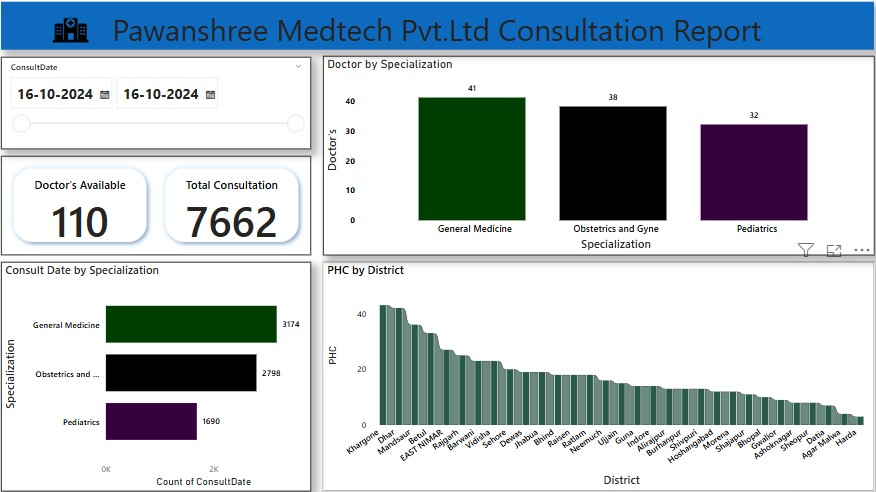

What the dashboard file says about the page in this screenshot:
{"tool":"powerbi","page":{"name":"Page 1","canvas":[1280,720],"ordinal":0},"visuals":[{"type":"shape","box":[20,11.7,1246.7,68.3],"z":0},{"type":"textbox","box":[174.9,15.9,1033.3,73.4],"z":1000},{"type":"image","box":[20.8,22,195.7,61.1],"z":2000},{"type":"cardVisual","fields":{"Data":["Count(ReportConsultation 16-Oct-2024 to 16-Oct-2024 (2).Doctor)1","CountNonNull(ReportConsultation 16-Oct-2024 to 16-Oct-2024 (2).ConsultDate)"]},"box":[20,231.7,443.3,141.7],"z":3000},{"type":"clusteredBarChart","title":"Consult Date by Specialization","fields":{"Category":["ReportConsultation 16-Oct-2024 to 16-Oct-2024 (2).Specialization"],"Y":["CountNonNull(ReportConsultation 16-Oct-2024 to 16-Oct-2024 (2).ConsultDate)"]},"box":[20,383.3,443.3,328.3],"z":4000},{"type":"ribbonChart","fields":{"Category":["ReportConsultation 16-Oct-2024 to 16-Oct-2024 (2).District"],"Y":["Count(ReportConsultation 16-Oct-2024 to 16-Oct-2024 (2).PHC)"]},"box":[480,383.3,788.3,328.3],"z":5000},{"type":"clusteredColumnChart","title":"Doctor by Specialization","fields":{"Category":["ReportConsultation 16-Oct-2024 to 16-Oct-2024 (2).Specialization"],"Y":["Count(ReportConsultation 16-Oct-2024 to 16-Oct-2024 (2).Doctor)"]},"box":[479.6,88.2,787.9,285.2],"z":6000},{"type":"slicer","fields":{"Values":["ReportConsultation 16-Oct-2024 to 16-Oct-2024 (2).ConsultDate"]},"box":[20,90,443.3,131.7],"z":7000}]}

Visuals, with their boxes in screenshot pixels (x1, y1, x2, y2), scaled from the page's 1280x720 canvas onto the 876x492 screenshot:
shape: select_region(14, 8, 867, 55)
textbox: select_region(120, 11, 827, 61)
image: select_region(14, 15, 148, 57)
cardVisual - Count(ReportConsultation 16-Oct-2024 to 16-Oct-2024 (2).Doctor)1 x CountNonNull(ReportConsultation 16-Oct-2024 to 16-Oct-2024 (2).ConsultDate): select_region(14, 158, 317, 255)
"Consult Date by Specialization" clusteredBarChart: select_region(14, 262, 317, 486)
ribbonChart - ReportConsultation 16-Oct-2024 to 16-Oct-2024 (2).District x Count(ReportConsultation 16-Oct-2024 to 16-Oct-2024 (2).PHC): select_region(328, 262, 868, 486)
"Doctor by Specialization" clusteredColumnChart: select_region(328, 60, 867, 255)
slicer - ReportConsultation 16-Oct-2024 to 16-Oct-2024 (2).ConsultDate: select_region(14, 62, 317, 151)
